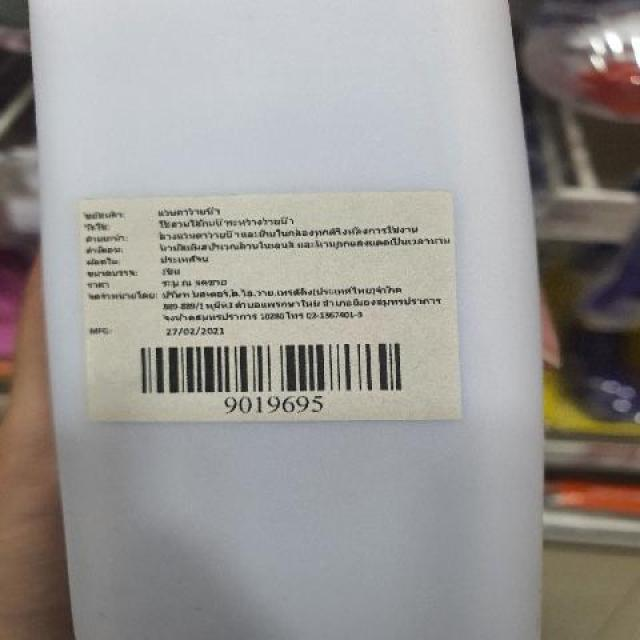Barcode: (123, 338, 421, 415)
